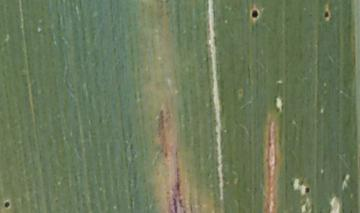tarspot: (247, 7, 263, 21), (1, 196, 14, 211), (301, 182, 313, 197), (321, 8, 333, 21)
